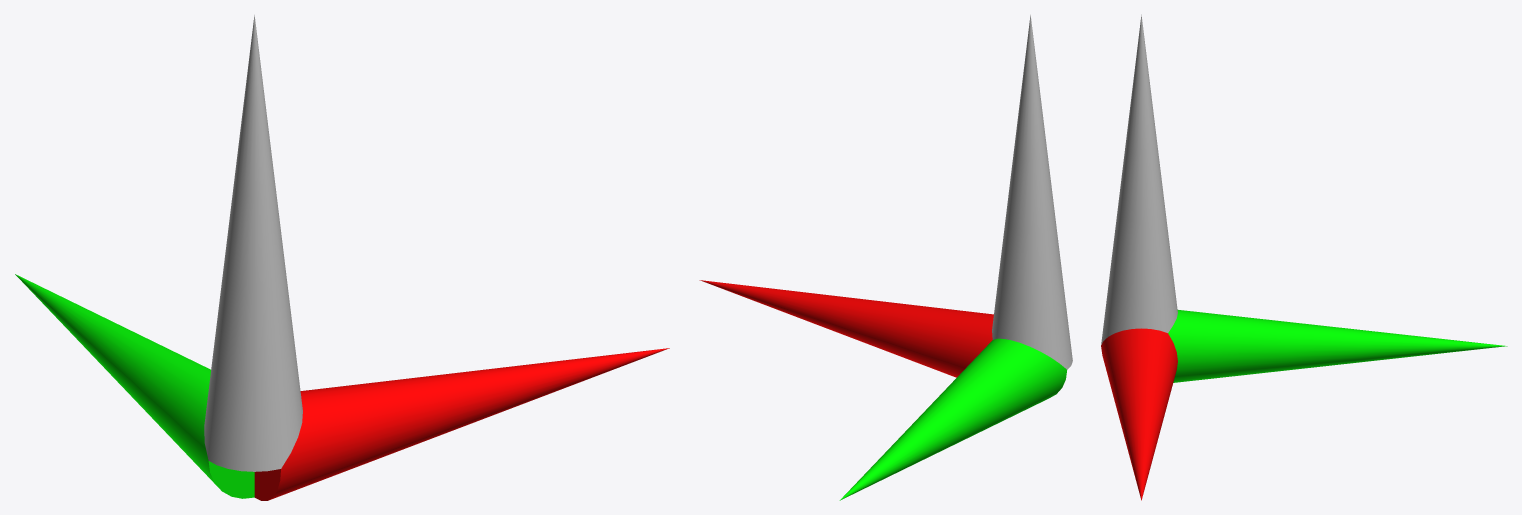
File: Pivot.FBX
The picture shows the model from 3 angles, left to right: view 1: azimuth 30°, elevation 25°; view 2: azimuth 150°, elevation 25°; view 3: azimuth 270°, elevation 25°; orthographic projection. The views are drawn at different scales.
Parts seen in each view (by area): view 1: Cone001, Cone002, Cone003; view 2: Cone001, Cone003, Cone002; view 3: Cone003, Cone001, Cone002.
Boxes of the visible parts, bbox=[...] form: Cone001: bbox=[204, 15, 302, 471]; Cone002: bbox=[254, 348, 669, 500]; Cone003: bbox=[15, 274, 254, 498]; Cone001: bbox=[992, 15, 1072, 369]; Cone003: bbox=[839, 338, 1066, 500]; Cone002: bbox=[699, 280, 993, 377]; Cone003: bbox=[1168, 310, 1507, 382]; Cone001: bbox=[1101, 14, 1177, 345]; Cone002: bbox=[1101, 328, 1177, 500].
Size of the model in its own units: 110 by 110 by 110.
